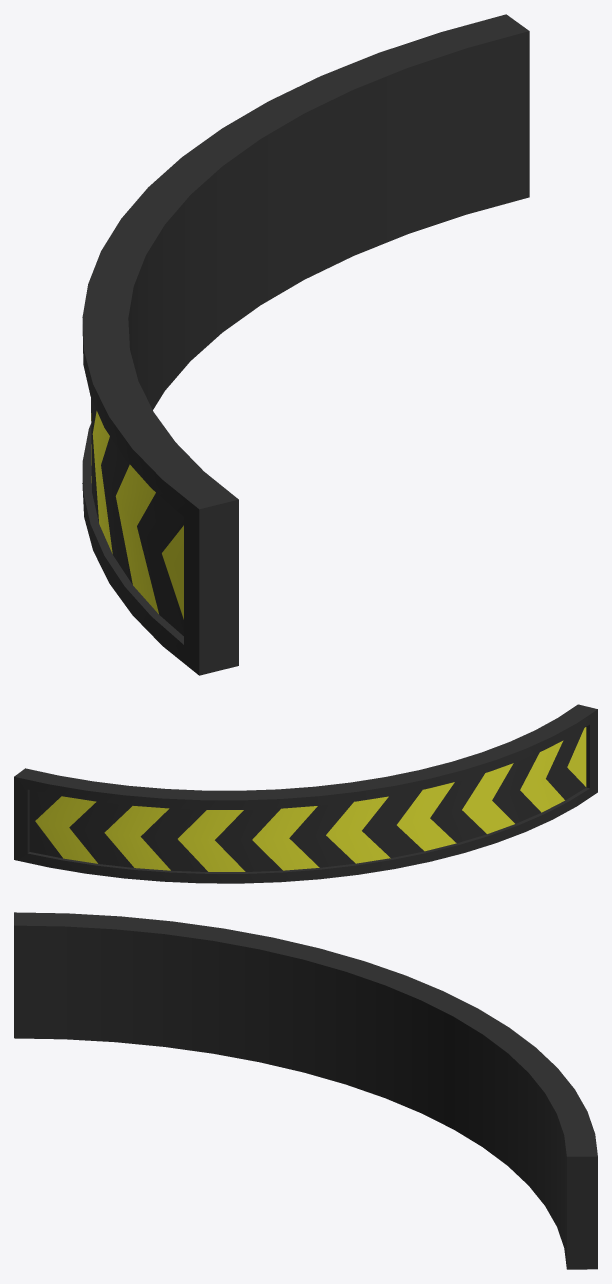
File: TrackArrowPanelCurvedOut.fbx
3 views of the same model, one above another, from view 1: azimuth 30°, elevation 25°; view 2: azimuth 150°, elevation 25°; view 3: azimuth 270°, elevation 25° (orthographic). The views are drawn at different scales.
Parts seen in each view (by area): view 1: TrackArrowPanelCurvedOut; view 2: TrackArrowPanelCurvedOut; view 3: TrackArrowPanelCurvedOut.
Part boxes in pixels (x1,y1,x2,y2): TrackArrowPanelCurvedOut: (82, 14, 529, 675); TrackArrowPanelCurvedOut: (14, 704, 597, 883); TrackArrowPanelCurvedOut: (14, 912, 597, 1269).
Bounding box in the file's own units: 18.56 × 18.76 × 4.
